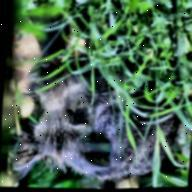boar: (15, 28, 188, 181)
